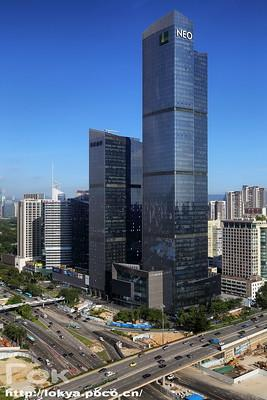building: (138, 7, 213, 312), (84, 125, 144, 300)
